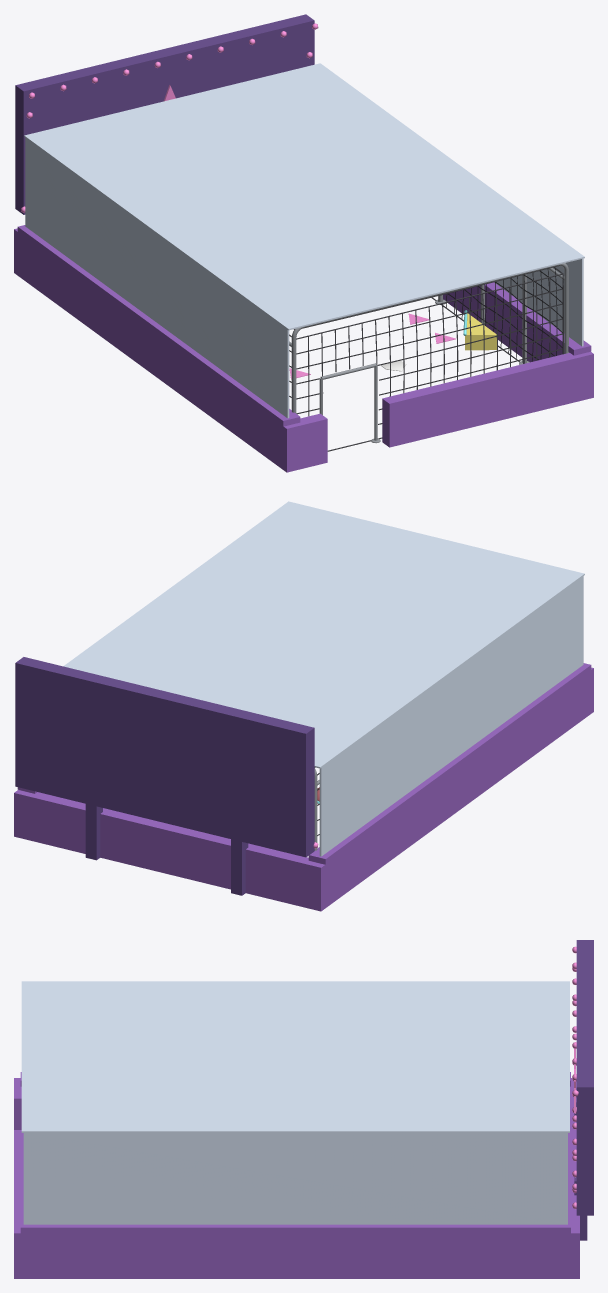
The model's file is PinballCage.fbx.
3 renders of one model, top to bottom at view 1: azimuth 30°, elevation 25°; view 2: azimuth 150°, elevation 25°; view 3: azimuth 270°, elevation 25°, orthographic. The views are drawn at different scales.
Visible parts, largest first — view 1: PinGlass, PinCabinet, PinBackbox, PinNetBack, PinCageFrame, PinNetRight, PinKickers; view 2: PinGlass, PinBackbox, PinCabinet; view 3: PinGlass, PinCabinet, PinBackbox, PinMarquee.
Boxes of the visible parts, x1,y1,x2,y2 form: PinGlass: (24,63,584,418); PinCabinet: (14,225,593,472); PinBackbox: (15,14,314,214); PinNetBack: (296,273,563,451); PinCageFrame: (289,263,568,443); PinNetRight: (431,267,563,363); PinKickers: (465,313,496,350); PinGlass: (63,501,584,856); PinBackbox: (15,657,314,895); PinCabinet: (14,663,593,911); PinGlass: (21,981,569,1224); PinCabinet: (14,1072,579,1278); PinBackbox: (574,940,593,1240); PinMarquee: (572,946,578,1208).
Bounding box in the file's own units: 848 × 476 × 1333.
